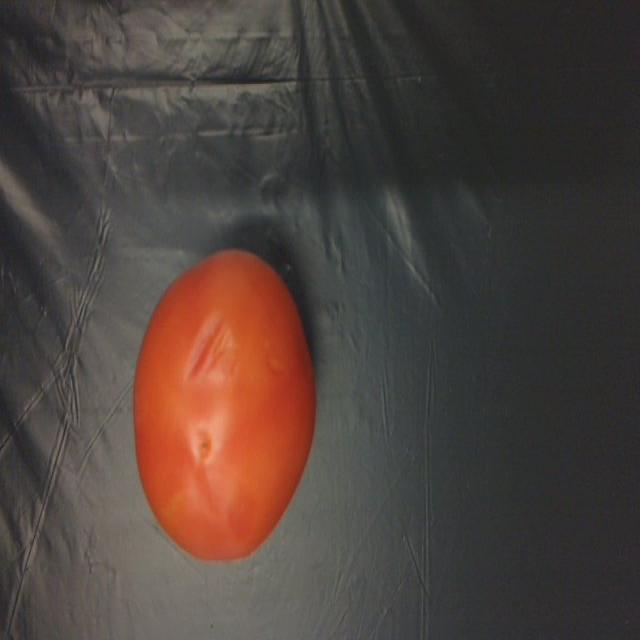sari: (124, 234, 333, 560)
